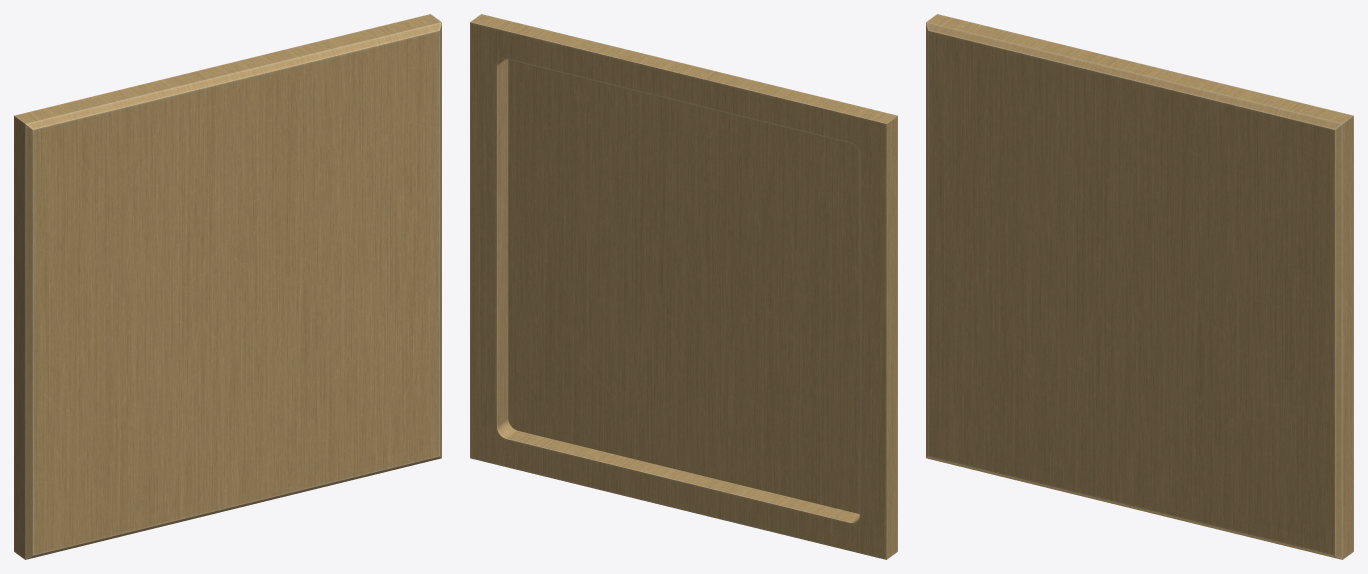
The model's file is Laiton.glb.
3 renders of one model, left to right at view 1: azimuth 30°, elevation 25°; view 2: azimuth 150°, elevation 25°; view 3: azimuth 330°, elevation 25°, orthographic.
Parts seen in each view (by area): view 1: 2; view 2: 2; view 3: 2.
Part boxes in pixels (x1=…): 2: x1=14, y1=14, x2=441, y2=559; 2: x1=470, y1=14, x2=897, y2=559; 2: x1=926, y1=14, x2=1353, y2=559.
Bounding box in the file's own units: 0.085 × 0.085 × 0.005.
1 material, 1 textured.
